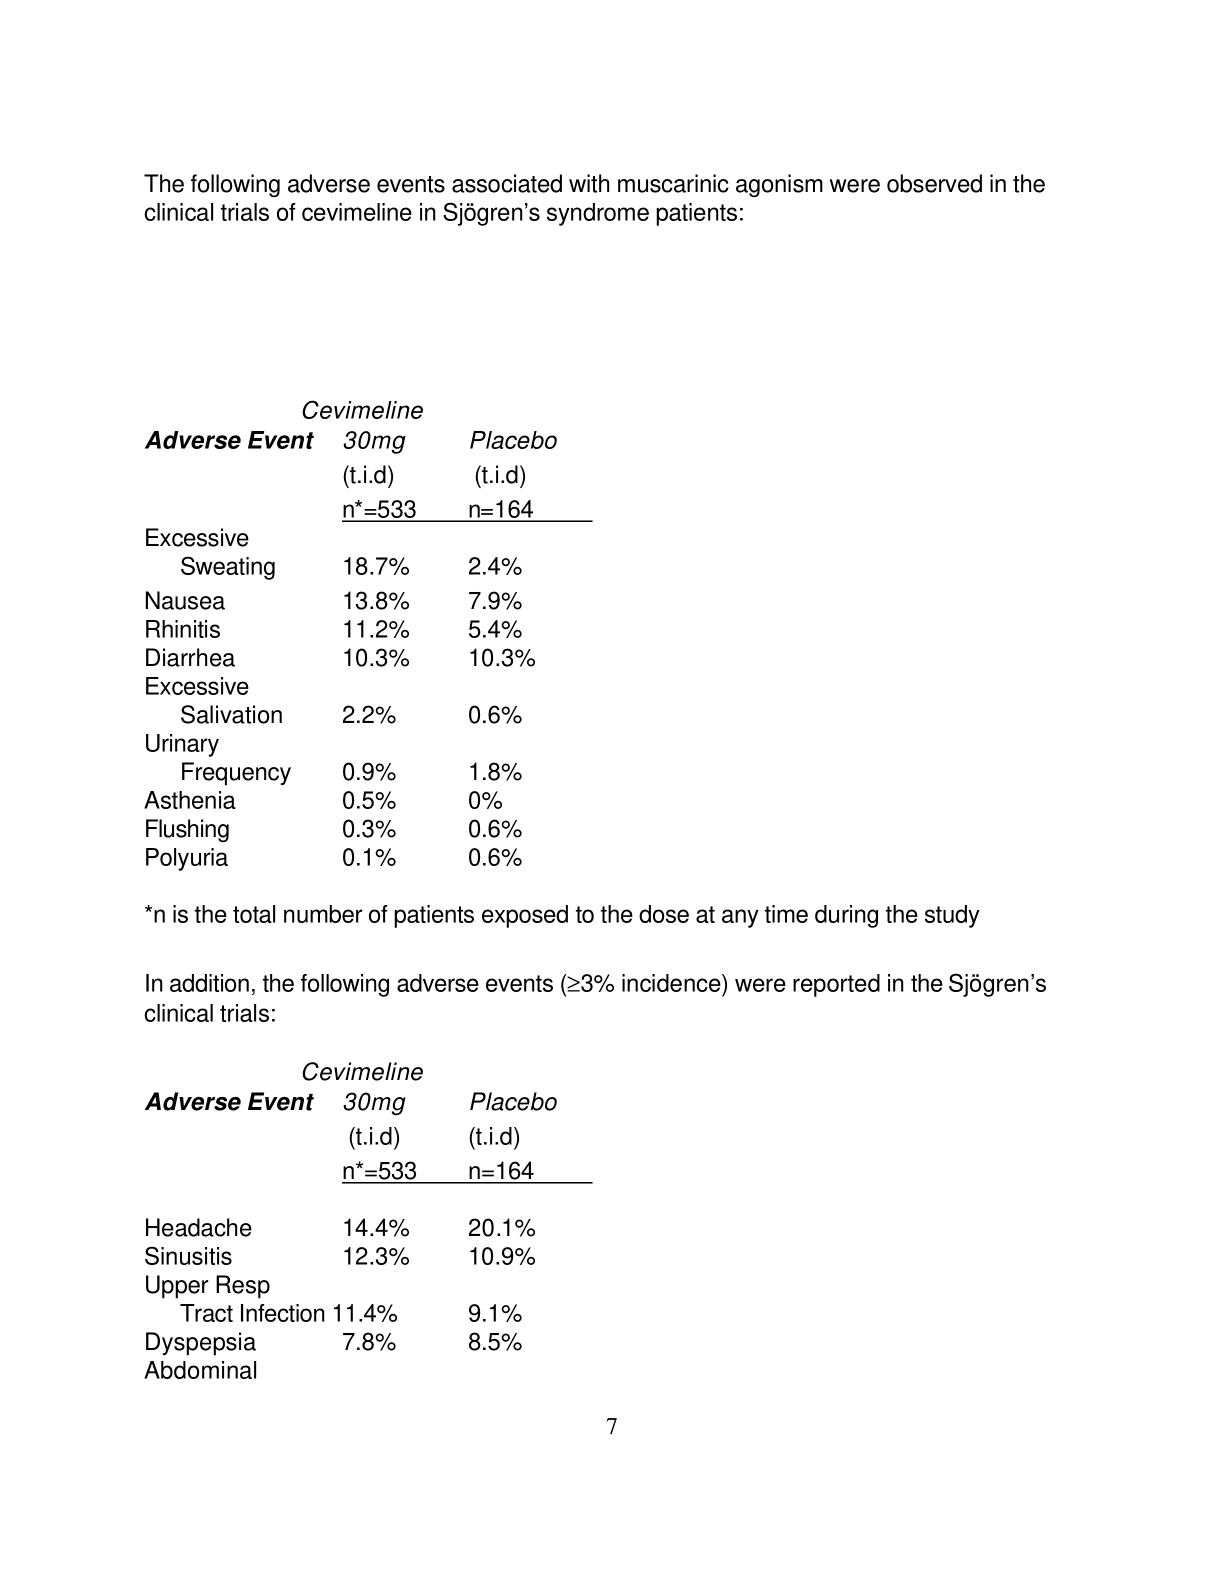partial_lined: (141, 423, 591, 870), (141, 1088, 595, 1382)
